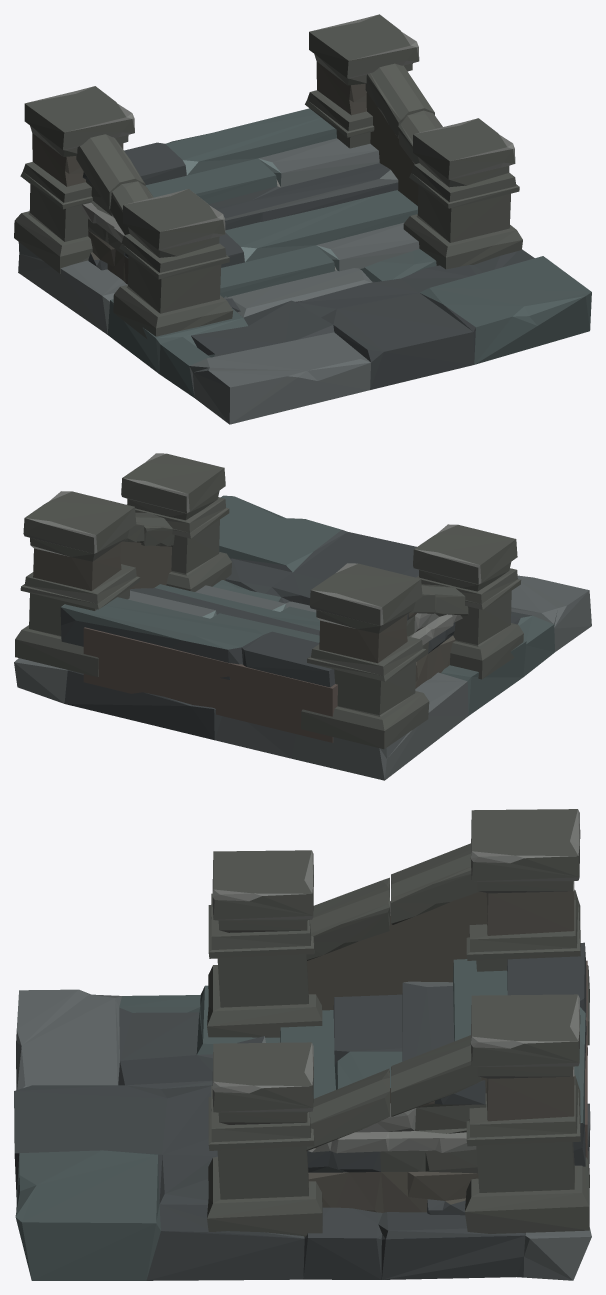
Rendered from MDungeons_Steps_Short.FBX.
The picture shows the model from 3 angles, top to bottom: view 1: azimuth 30°, elevation 25°; view 2: azimuth 150°, elevation 25°; view 3: azimuth 270°, elevation 25°; orthographic projection. The views are drawn at different scales.
Parts seen in each view (by area): view 1: MDungeons_Steps_Short_LOD0; view 2: MDungeons_Steps_Short_LOD0; view 3: MDungeons_Steps_Short_LOD0.
Part boxes in pixels (<box>): MDungeons_Steps_Short_LOD0: <box>14,14,591,424</box>; MDungeons_Steps_Short_LOD0: <box>14,453,591,780</box>; MDungeons_Steps_Short_LOD0: <box>14,809,591,1280</box>.
Size of what is drawn, in the model's own units: 6.1 by 2.68 by 6.02.
